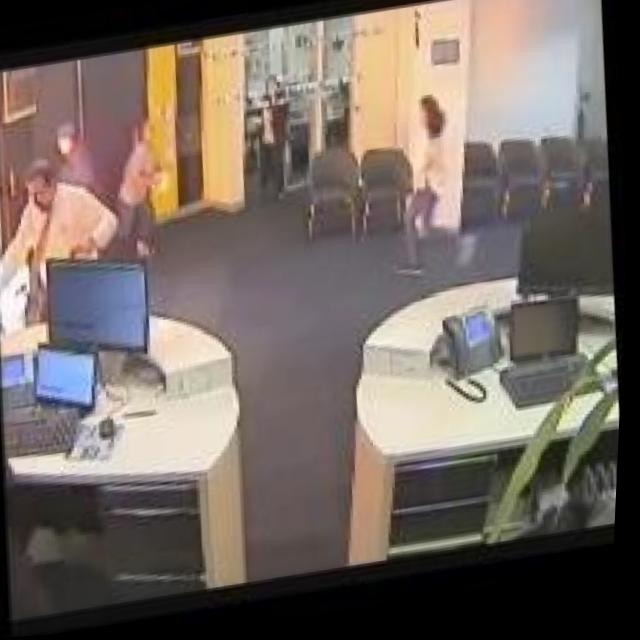fire: (0, 264, 39, 335)
